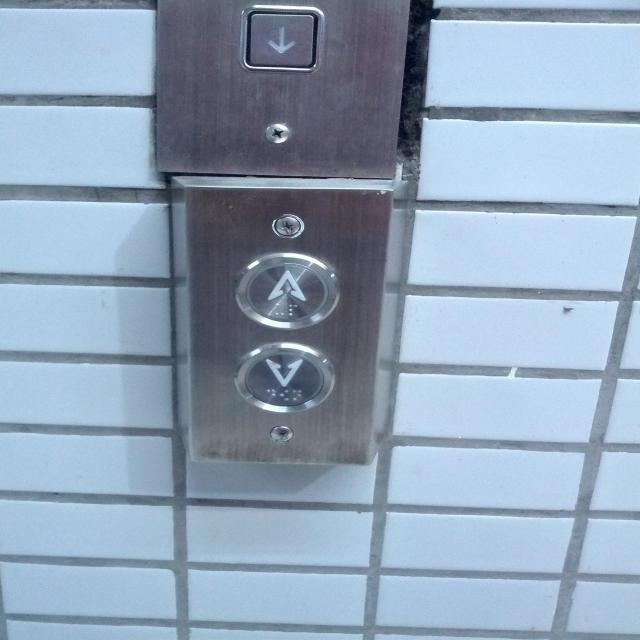down: (235, 342, 335, 414), (240, 4, 324, 74)
up: (231, 251, 340, 329)
